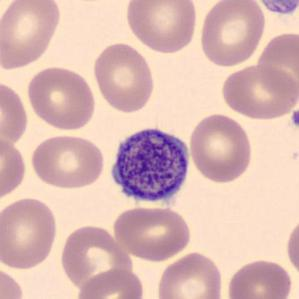Lymphocyte: (104, 121, 194, 211)
Platelets: (254, 0, 299, 16), (288, 107, 299, 130)
RBC: (57, 222, 134, 291), (25, 63, 98, 132), (187, 111, 255, 185), (111, 203, 194, 263), (91, 40, 157, 114), (198, 0, 267, 68), (218, 63, 298, 121), (0, 195, 60, 271), (0, 0, 64, 71), (28, 132, 106, 190), (123, 0, 199, 54), (154, 249, 226, 299), (254, 29, 298, 107), (224, 256, 295, 299), (75, 267, 146, 299), (0, 77, 30, 149), (0, 134, 28, 204), (284, 215, 299, 280), (0, 263, 27, 299)
